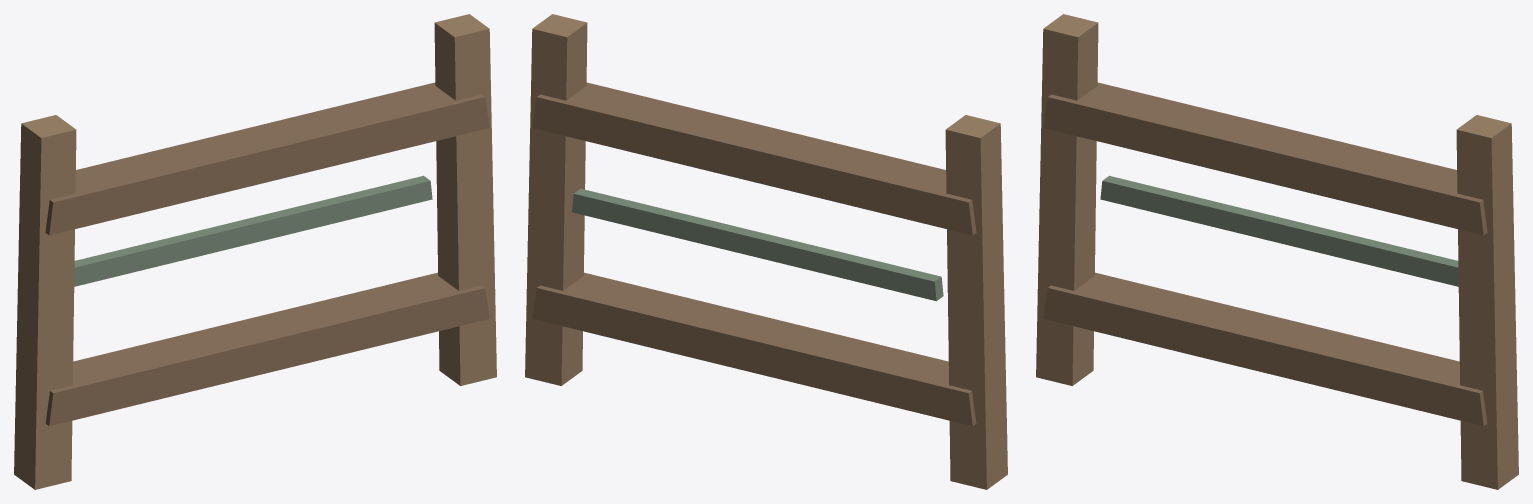
File: loom_small.glb
The picture shows the model from 3 angles, left to right: view 1: azimuth 30°, elevation 25°; view 2: azimuth 150°, elevation 25°; view 3: azimuth 330°, elevation 25°; orthographic projection.
Parts seen in each view (by area): view 1: part_1, part_0, part_2, part_3, part_4; view 2: part_1, part_0, part_2, part_3, part_4; view 3: part_1, part_0, part_3, part_2, part_4.
Part boxes in pixels (<box>): part_1: <box>45,272,489,426</box>; part_0: <box>45,82,489,235</box>; part_2: <box>14,115,76,489</box>; part_3: <box>434,14,496,385</box>; part_4: <box>74,175,432,286</box>; part_1: <box>532,272,976,426</box>; part_0: <box>532,82,976,235</box>; part_2: <box>945,115,1007,489</box>; part_3: <box>525,14,587,385</box>; part_4: <box>572,188,943,301</box>; part_1: <box>1043,272,1487,426</box>; part_0: <box>1043,82,1487,235</box>; part_3: <box>1456,115,1518,489</box>; part_2: <box>1036,14,1098,385</box>; part_4: <box>1100,175,1458,286</box>.
Bounding box in the file's own units: 1.52 × 1.1 × 0.16.
